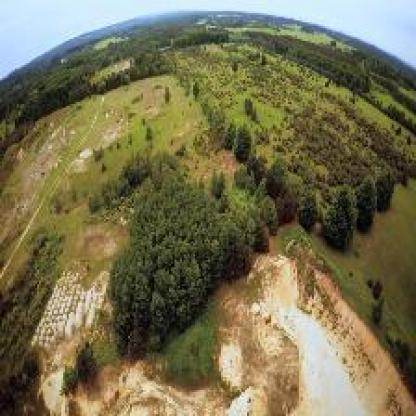other: (228, 275, 387, 407)
